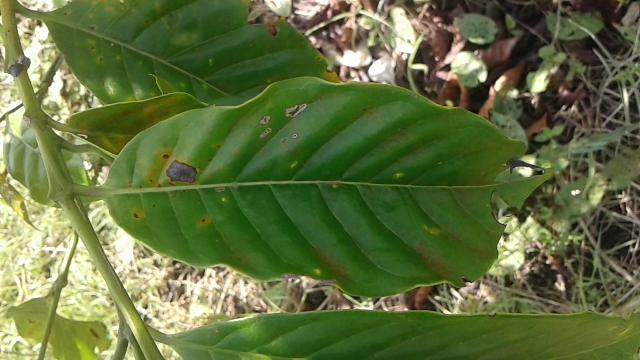rust_level_1: (100, 72, 564, 299)
